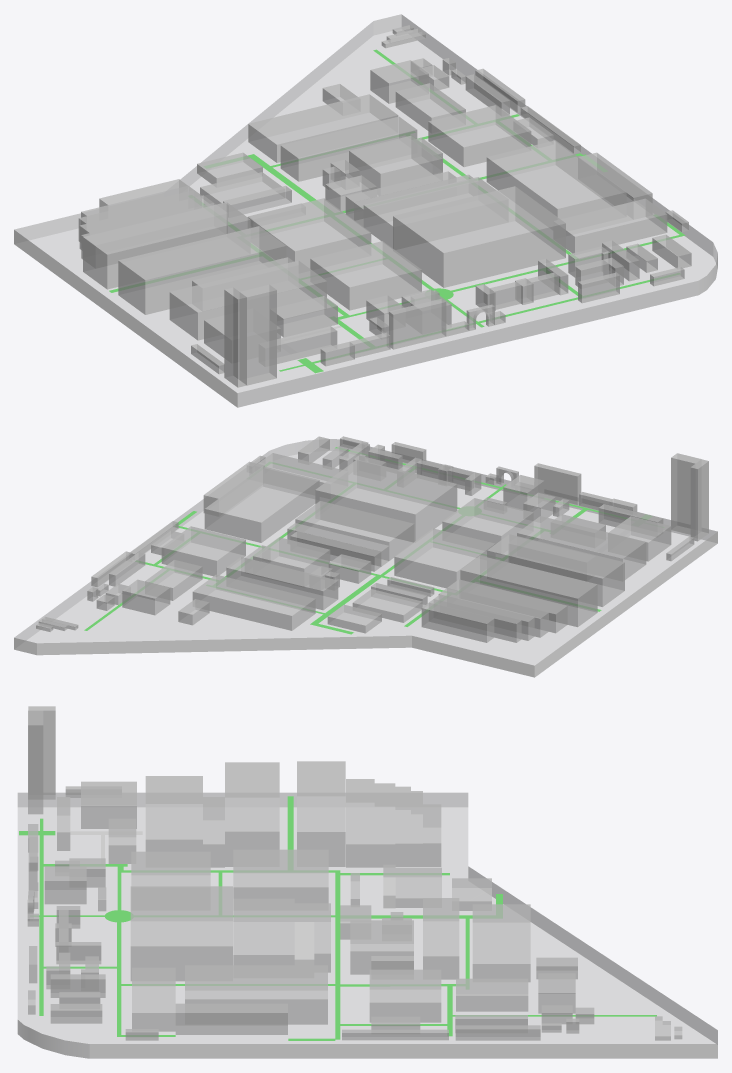
3 renders of one model, top to bottom at view 1: azimuth 30°, elevation 25°; view 2: azimuth 150°, elevation 25°; view 3: azimuth 270°, elevation 25°, orthographic. The views are drawn at different scales.
Parts seen in each view (by area): view 1: 底面, 背景, 办公区, 水电分厂, 焊接数字化车间, 水电智装.001, 汽发重型, 研究所试验台, 冲剪数字化车间, 汽发分厂, 线圈分厂.002, 金工分厂 (+5 smaller); view 2: 底面, 办公区, 背景, 水电分厂, 焊接数字化车间, 汽发重型, 线圈分厂.002, 水电智装.001, 汽发分厂, 研究所试验台, 冲剪数字化车间, 金工分厂 (+5 smaller); view 3: 底面, 背景, 办公区, 水电分厂, 焊接数字化车间, 线圈分厂.002, 汽发分厂, 研究所试验台, 冲剪数字化车间, 汽发重型, 水电智装.001, 金工分厂 (+5 smaller).
Boxes of the visible parts, box(x1,y1,x2,y2) form: 底面: box(14, 14, 717, 407); 背景: box(109, 25, 685, 373); 办公区: box(191, 58, 691, 387); 水电分厂: box(393, 186, 565, 287); 焊接数字化车间: box(486, 140, 667, 254); 水电智装.001: box(83, 202, 250, 289); 汽发重型: box(118, 226, 287, 314); 研究所试验台: box(169, 257, 326, 340); 冲剪数字化车间: box(247, 198, 371, 272); 汽发分厂: box(345, 171, 506, 248); 线圈分厂.002: box(78, 179, 225, 266); 金工分厂: box(310, 241, 421, 310); 底面: box(14, 439, 717, 677); 办公区: box(87, 436, 708, 601); 背景: box(36, 447, 663, 634); 水电分厂: box(315, 459, 457, 542); 焊接数字化车间: box(204, 453, 347, 542); 汽发重型: box(487, 534, 624, 606); 线圈分厂.002: box(421, 579, 567, 642); 水电智装.001: box(459, 555, 597, 627); 汽发分厂: box(287, 501, 414, 571); 研究所试验台: box(510, 516, 646, 580); 冲剪数字化车间: box(394, 528, 495, 589); 金工分厂: box(442, 498, 533, 553); 底面: box(17, 792, 717, 1058); 背景: box(19, 796, 682, 1040); 办公区: box(27, 706, 579, 1040); 水电分厂: box(130, 886, 232, 981); 焊接数字化车间: box(132, 965, 327, 1031); 线圈分厂.002: box(346, 779, 441, 867); 汽发分厂: box(233, 898, 330, 977); 研究所试验台: box(145, 776, 224, 867); 冲剪数字化车间: box(233, 849, 328, 909); 汽发重型: box(225, 762, 279, 866); 水电智装.001: box(297, 761, 345, 866); 金工分厂: box(131, 851, 210, 909).
Bounding box in the file's own units: 230 × 44.39 × 273.
